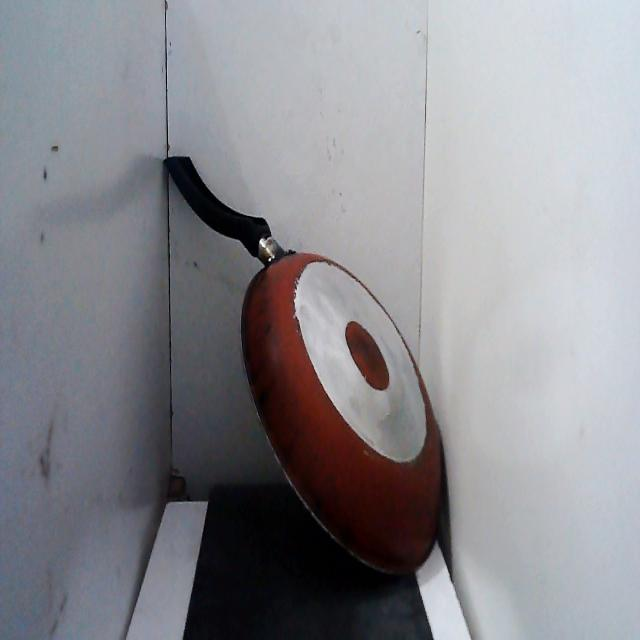metal: (159, 148, 451, 588)
